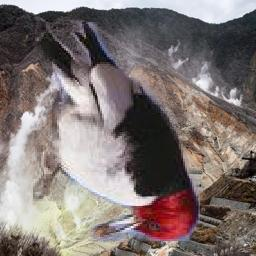Woodpecker: (34, 23, 201, 242)
